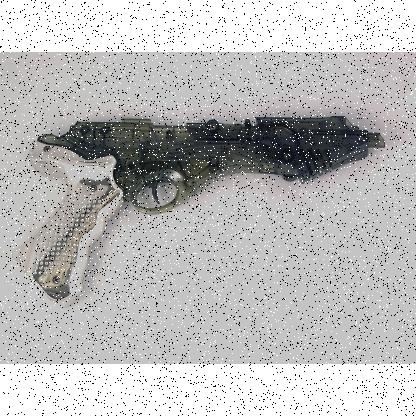gun: (13, 115, 385, 309)
